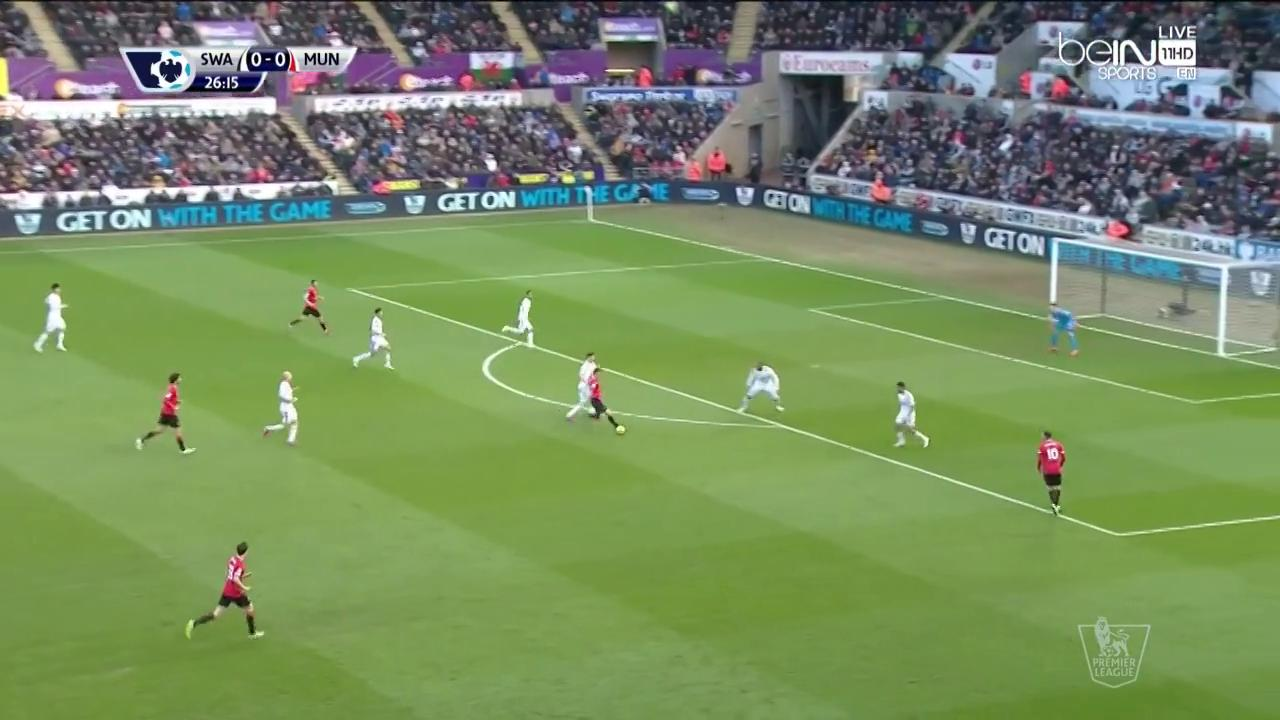football: (616, 425, 626, 435)
